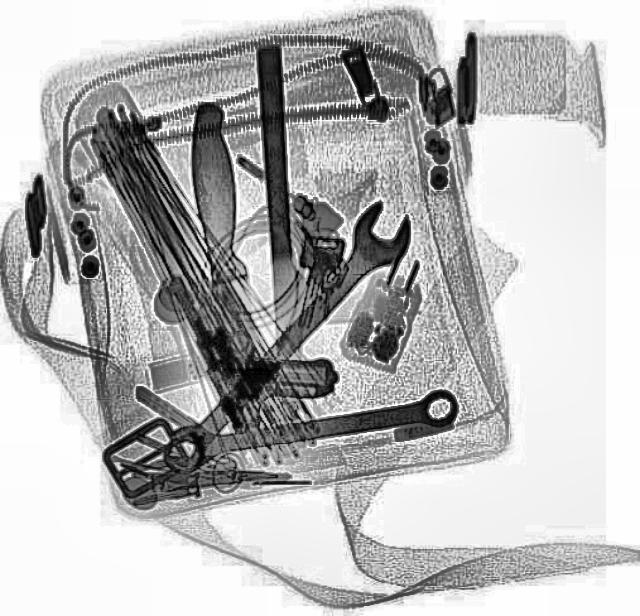Gun: (187, 314, 335, 400)
Knife: (182, 100, 266, 426), (255, 44, 303, 413)
Wrench: (143, 195, 424, 486), (166, 380, 460, 474)
